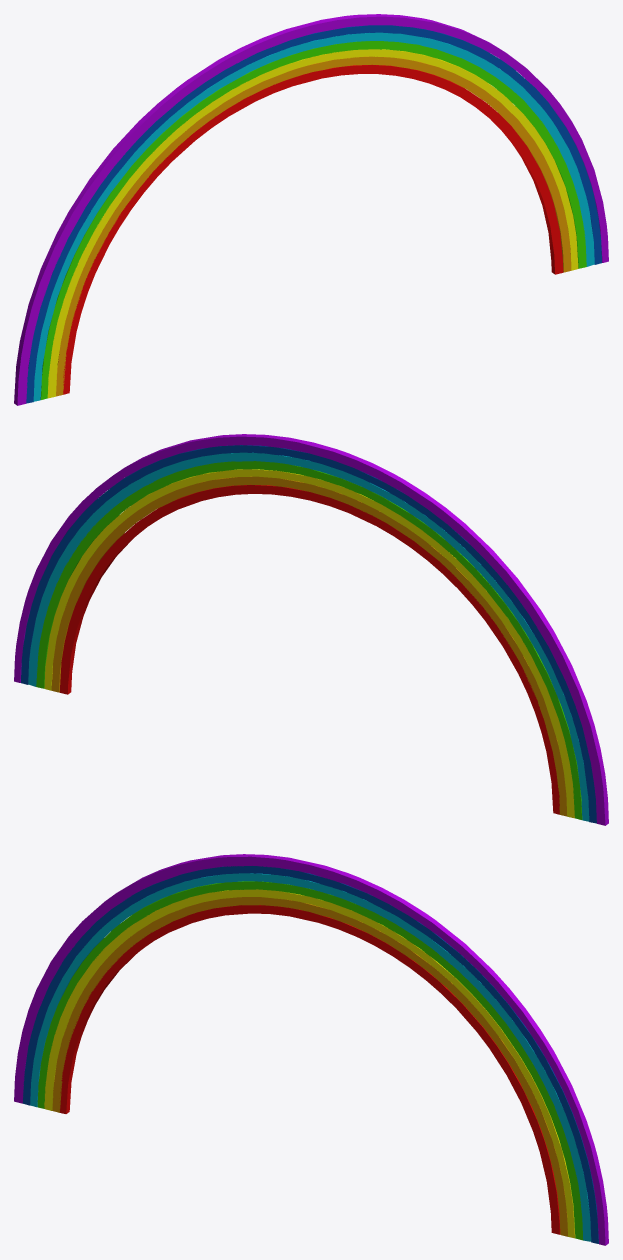
The model's file is rainbow.FBX.
3 views of the same model, one above another, from view 1: azimuth 30°, elevation 25°; view 2: azimuth 150°, elevation 25°; view 3: azimuth 330°, elevation 25° (orthographic).
Visible parts, largest first — view 1: rainbow; view 2: rainbow; view 3: rainbow.
Part boxes in pixels (left/top/right/bottom): rainbow: left=14, top=14, right=608, bottom=405; rainbow: left=14, top=434, right=608, bottom=825; rainbow: left=14, top=854, right=608, bottom=1245.
Size of the model in its own units: 403 by 201 by 4.1.
Materials: 1 (1 with a texture image).
